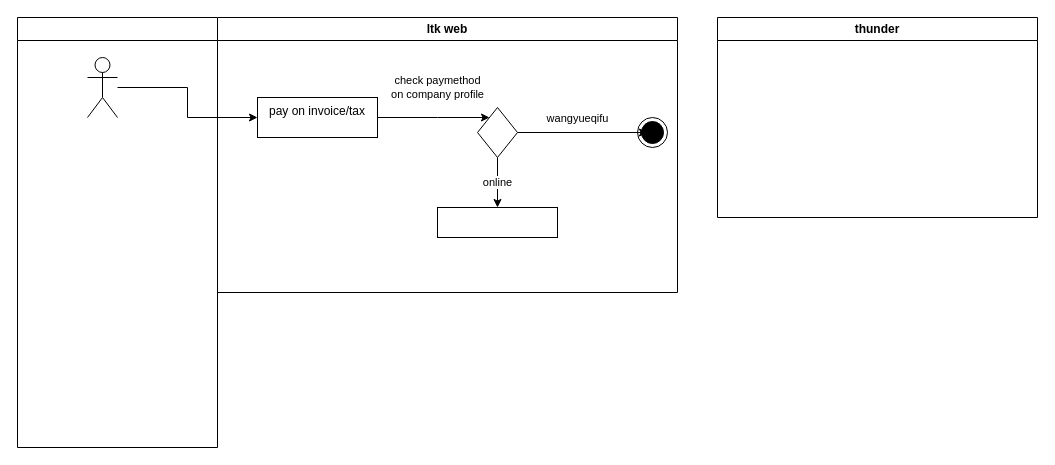
Some shapes in this 1055 by 465 pixel diagram are drawn without their labels. Each missing label, with the box of its shape:
BOC/EZPAY: (436, 206, 558, 238)
customer: (86, 56, 118, 118)
